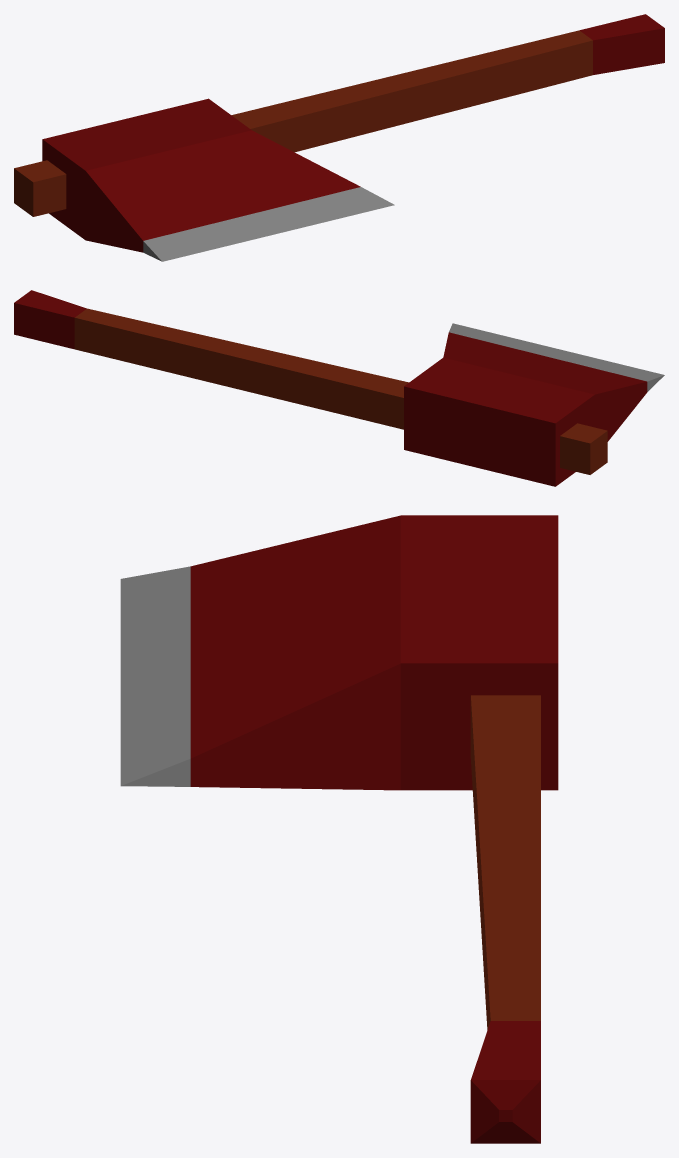
File: hacha.FBX
The picture shows the model from 3 angles, top to bottom: view 1: azimuth 30°, elevation 25°; view 2: azimuth 150°, elevation 25°; view 3: azimuth 270°, elevation 25°; orthographic projection. The views are drawn at different scales.
Visible parts, largest first — view 1: Cube; view 2: Cube; view 3: Cube.
Part boxes in pixels (x1=…): Cube: x1=14, y1=14, x2=664, y2=261; Cube: x1=14, y1=290, x2=664, y2=486; Cube: x1=120, y1=515, x2=558, y2=1143.
Bounding box in the file's own units: 754 × 78.74 × 246.
